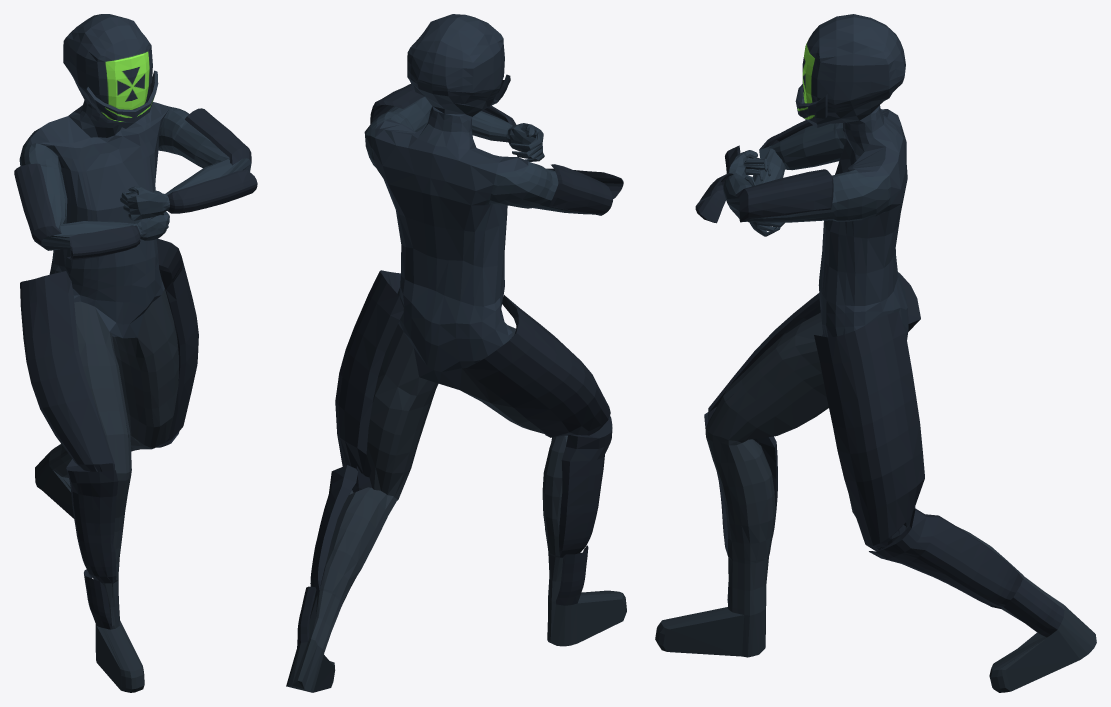
The model's file is Bastion_WL_000016.obj.
3 views of the same model, side by side, from view 1: azimuth 30°, elevation 25°; view 2: azimuth 150°, elevation 25°; view 3: azimuth 270°, elevation 25° (orthographic). The views are drawn at different scales.
Visible parts, largest first — view 1: Cube.002; view 2: Cube.002; view 3: Cube.002.
Boxes of the visible parts, x1,y1,x2,y2 form: Cube.002: (14, 14, 257, 692); Cube.002: (286, 14, 626, 692); Cube.002: (655, 14, 1096, 692).
Bounding box in the file's own units: 1.31 × 3.59 × 2.17.
